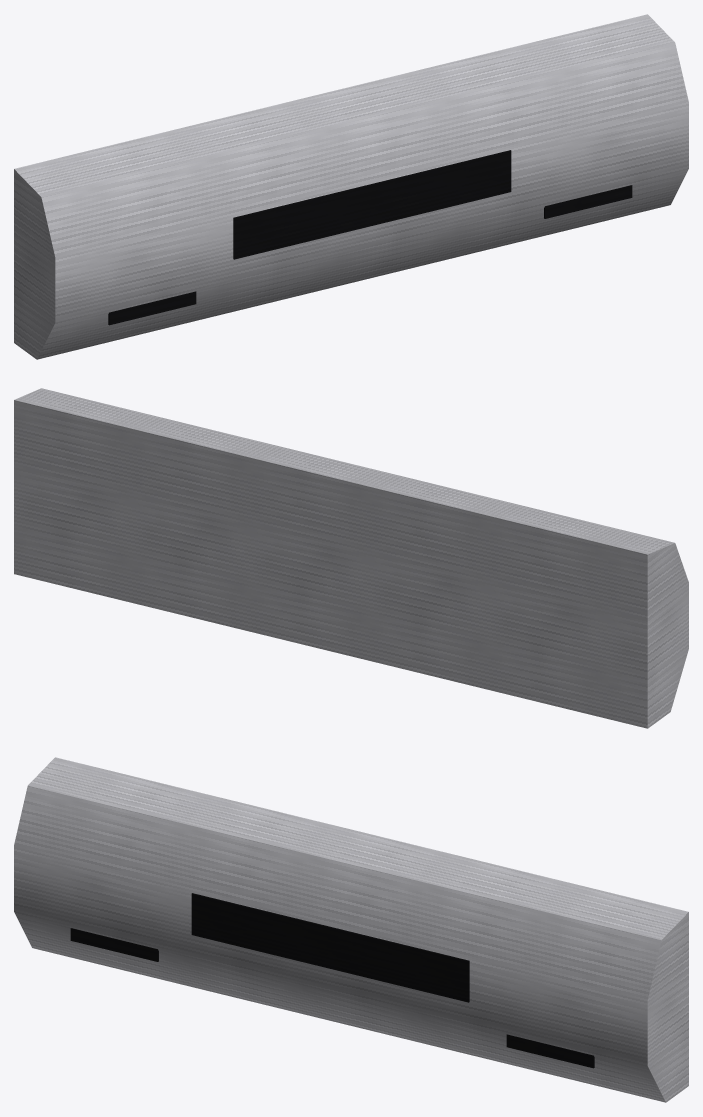
File: para_choque_fabrica.glb
3 renders of one model, top to bottom at view 1: azimuth 30°, elevation 25°; view 2: azimuth 150°, elevation 25°; view 3: azimuth 330°, elevation 25°, orthographic.
Visible parts, largest first — view 1: para_choque_fabrica; view 2: para_choque_fabrica; view 3: para_choque_fabrica.
Part boxes in pixels (x1=…): para_choque_fabrica: x1=14, y1=14, x2=688, y2=359; para_choque_fabrica: x1=14, y1=388, x2=688, y2=728; para_choque_fabrica: x1=14, y1=757, x2=688, y2=1102.
Bounding box in the file's own units: 1.6 × 0.42 × 0.183.
1 material, 1 textured.
